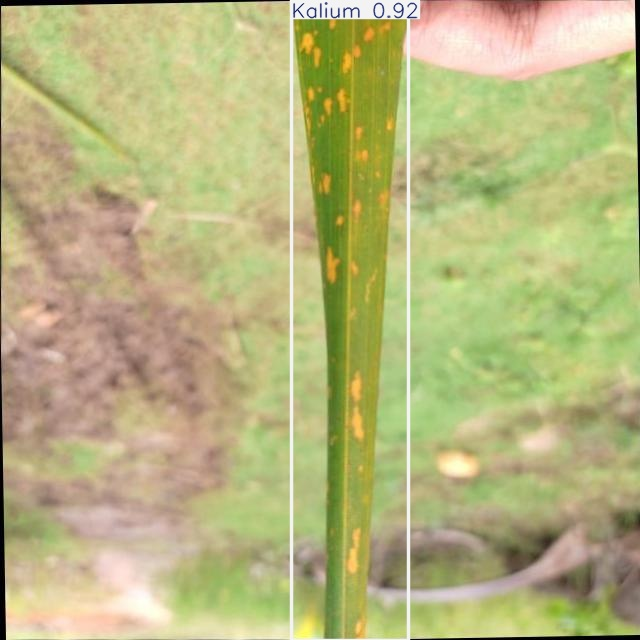Kalium: (292, 1, 408, 640)
